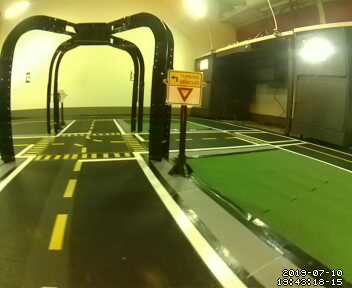Turn Yield: (168, 69, 204, 108)
